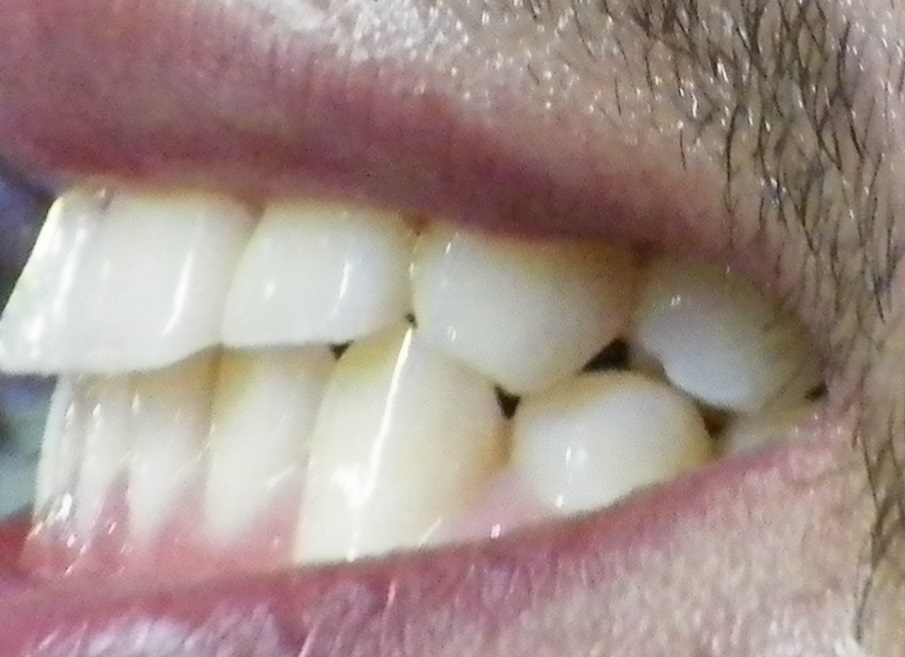boca: (1, 173, 770, 555)
